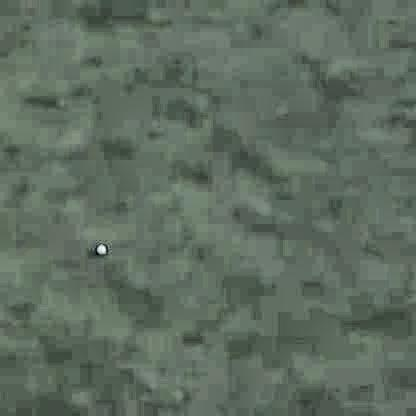golfball: (92, 241, 105, 254)
